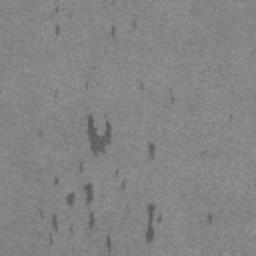Red iron sheet: (38, 114, 125, 255), (145, 204, 162, 244), (148, 142, 155, 159), (207, 213, 213, 224), (111, 26, 116, 37), (55, 25, 60, 35)
